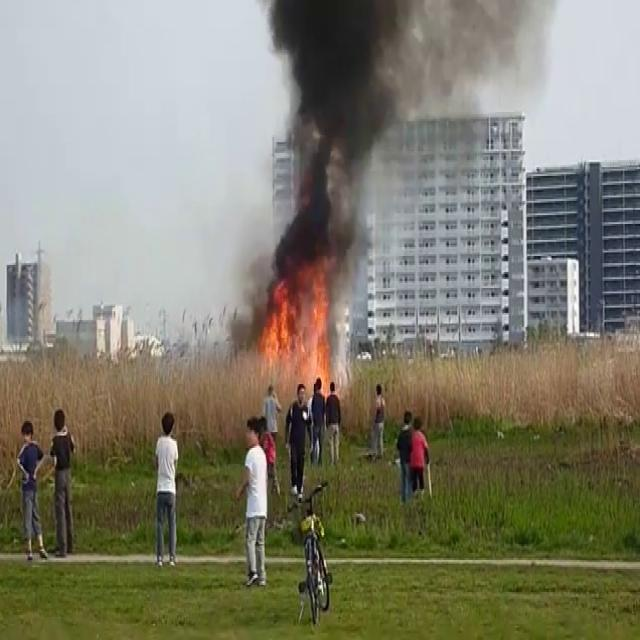Fire: (252, 266, 340, 392)
Smoke: (244, 0, 415, 309), (246, 0, 535, 125)
